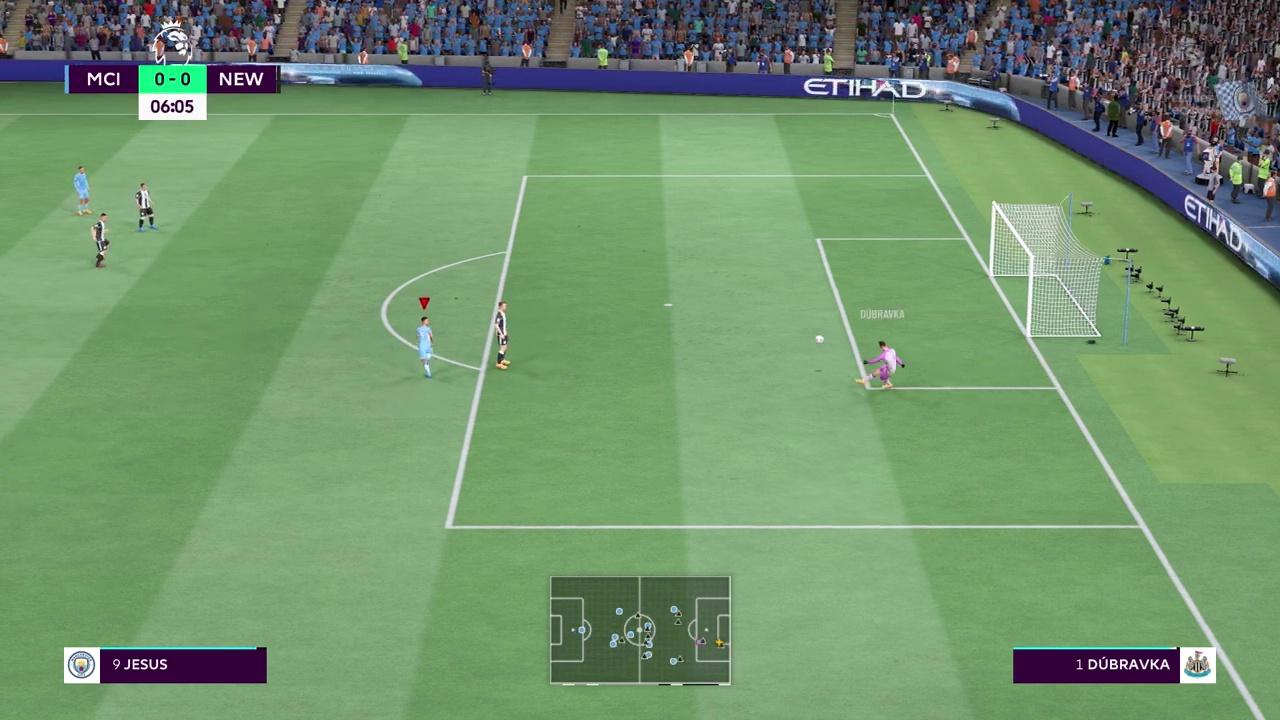scoreboard: (66, 64, 279, 93)
timestamp: (138, 95, 207, 121)
